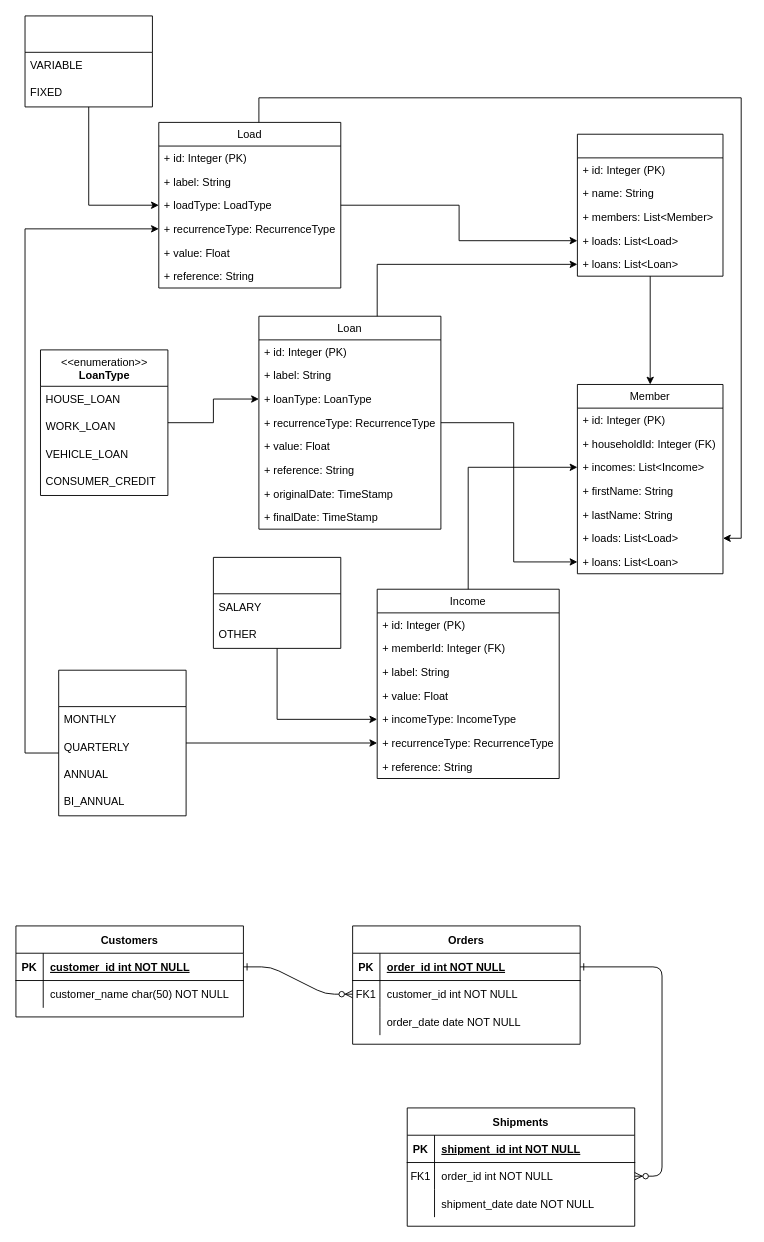
This 764x1242 diagram has some shape labels left out. Each missing label, with the box of its shape:
<<enumeration>> IncomeType: (212, 556, 341, 648)
<<enumeration>> LoadType: (24, 15, 152, 107)
<<enumeration>> RecurrenceType: (58, 669, 186, 816)
Household: (576, 133, 723, 276)
